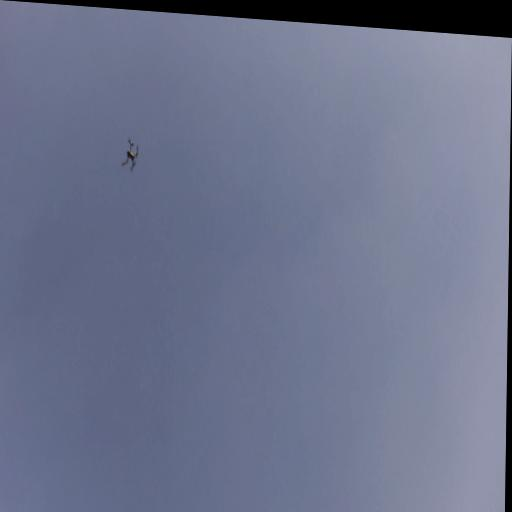drones: (120, 136, 141, 177)
